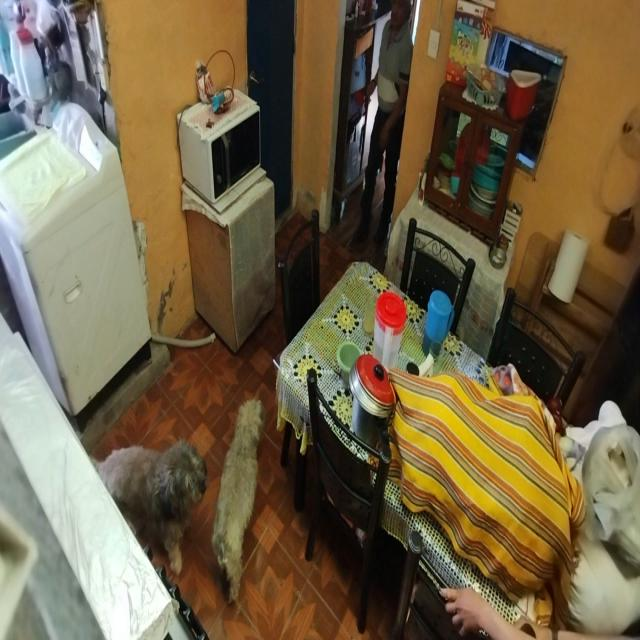adult: (358, 1, 412, 246)
